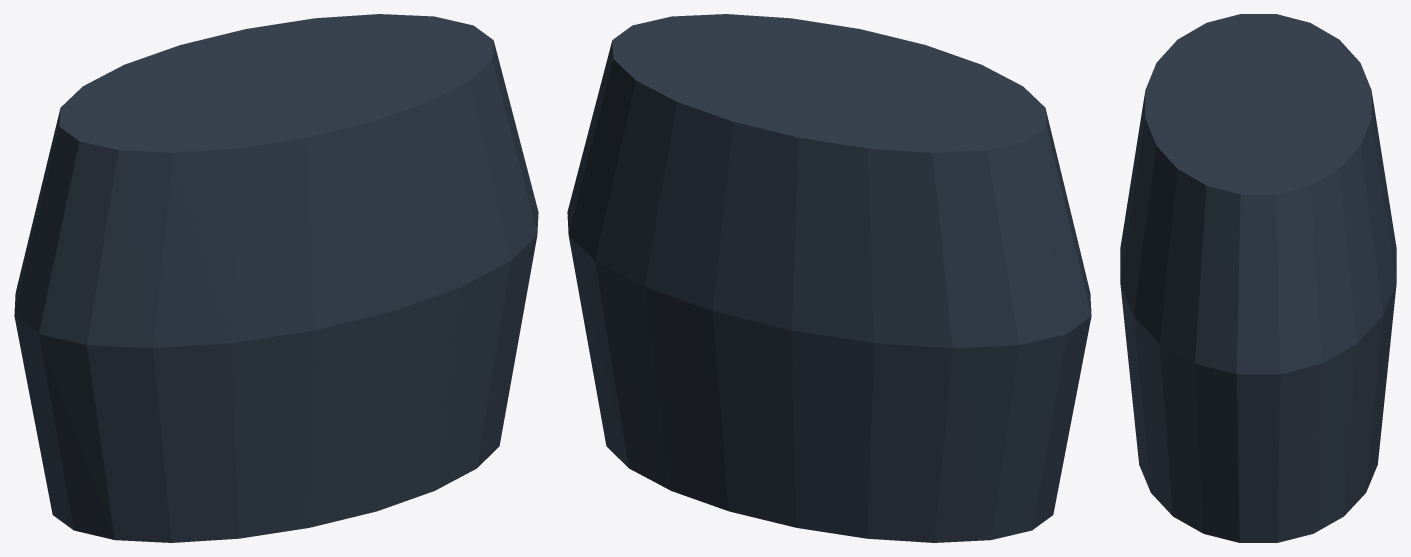
Rendered from Guard_Torso.obj.
The picture shows the model from 3 angles, left to right: view 1: azimuth 30°, elevation 25°; view 2: azimuth 150°, elevation 25°; view 3: azimuth 270°, elevation 25°; orthographic projection. The views are drawn at different scales.
Parts seen in each view (by area): view 1: Guard_Torso; view 2: Guard_Torso; view 3: Guard_Torso.
Boxes of the visible parts, x1,y1,x2,y2 form: Guard_Torso: (14,14,538,542); Guard_Torso: (567,14,1091,542); Guard_Torso: (1120,14,1396,542).
Bounding box in the file's own units: 0.8099 × 0.6 × 0.4346.
